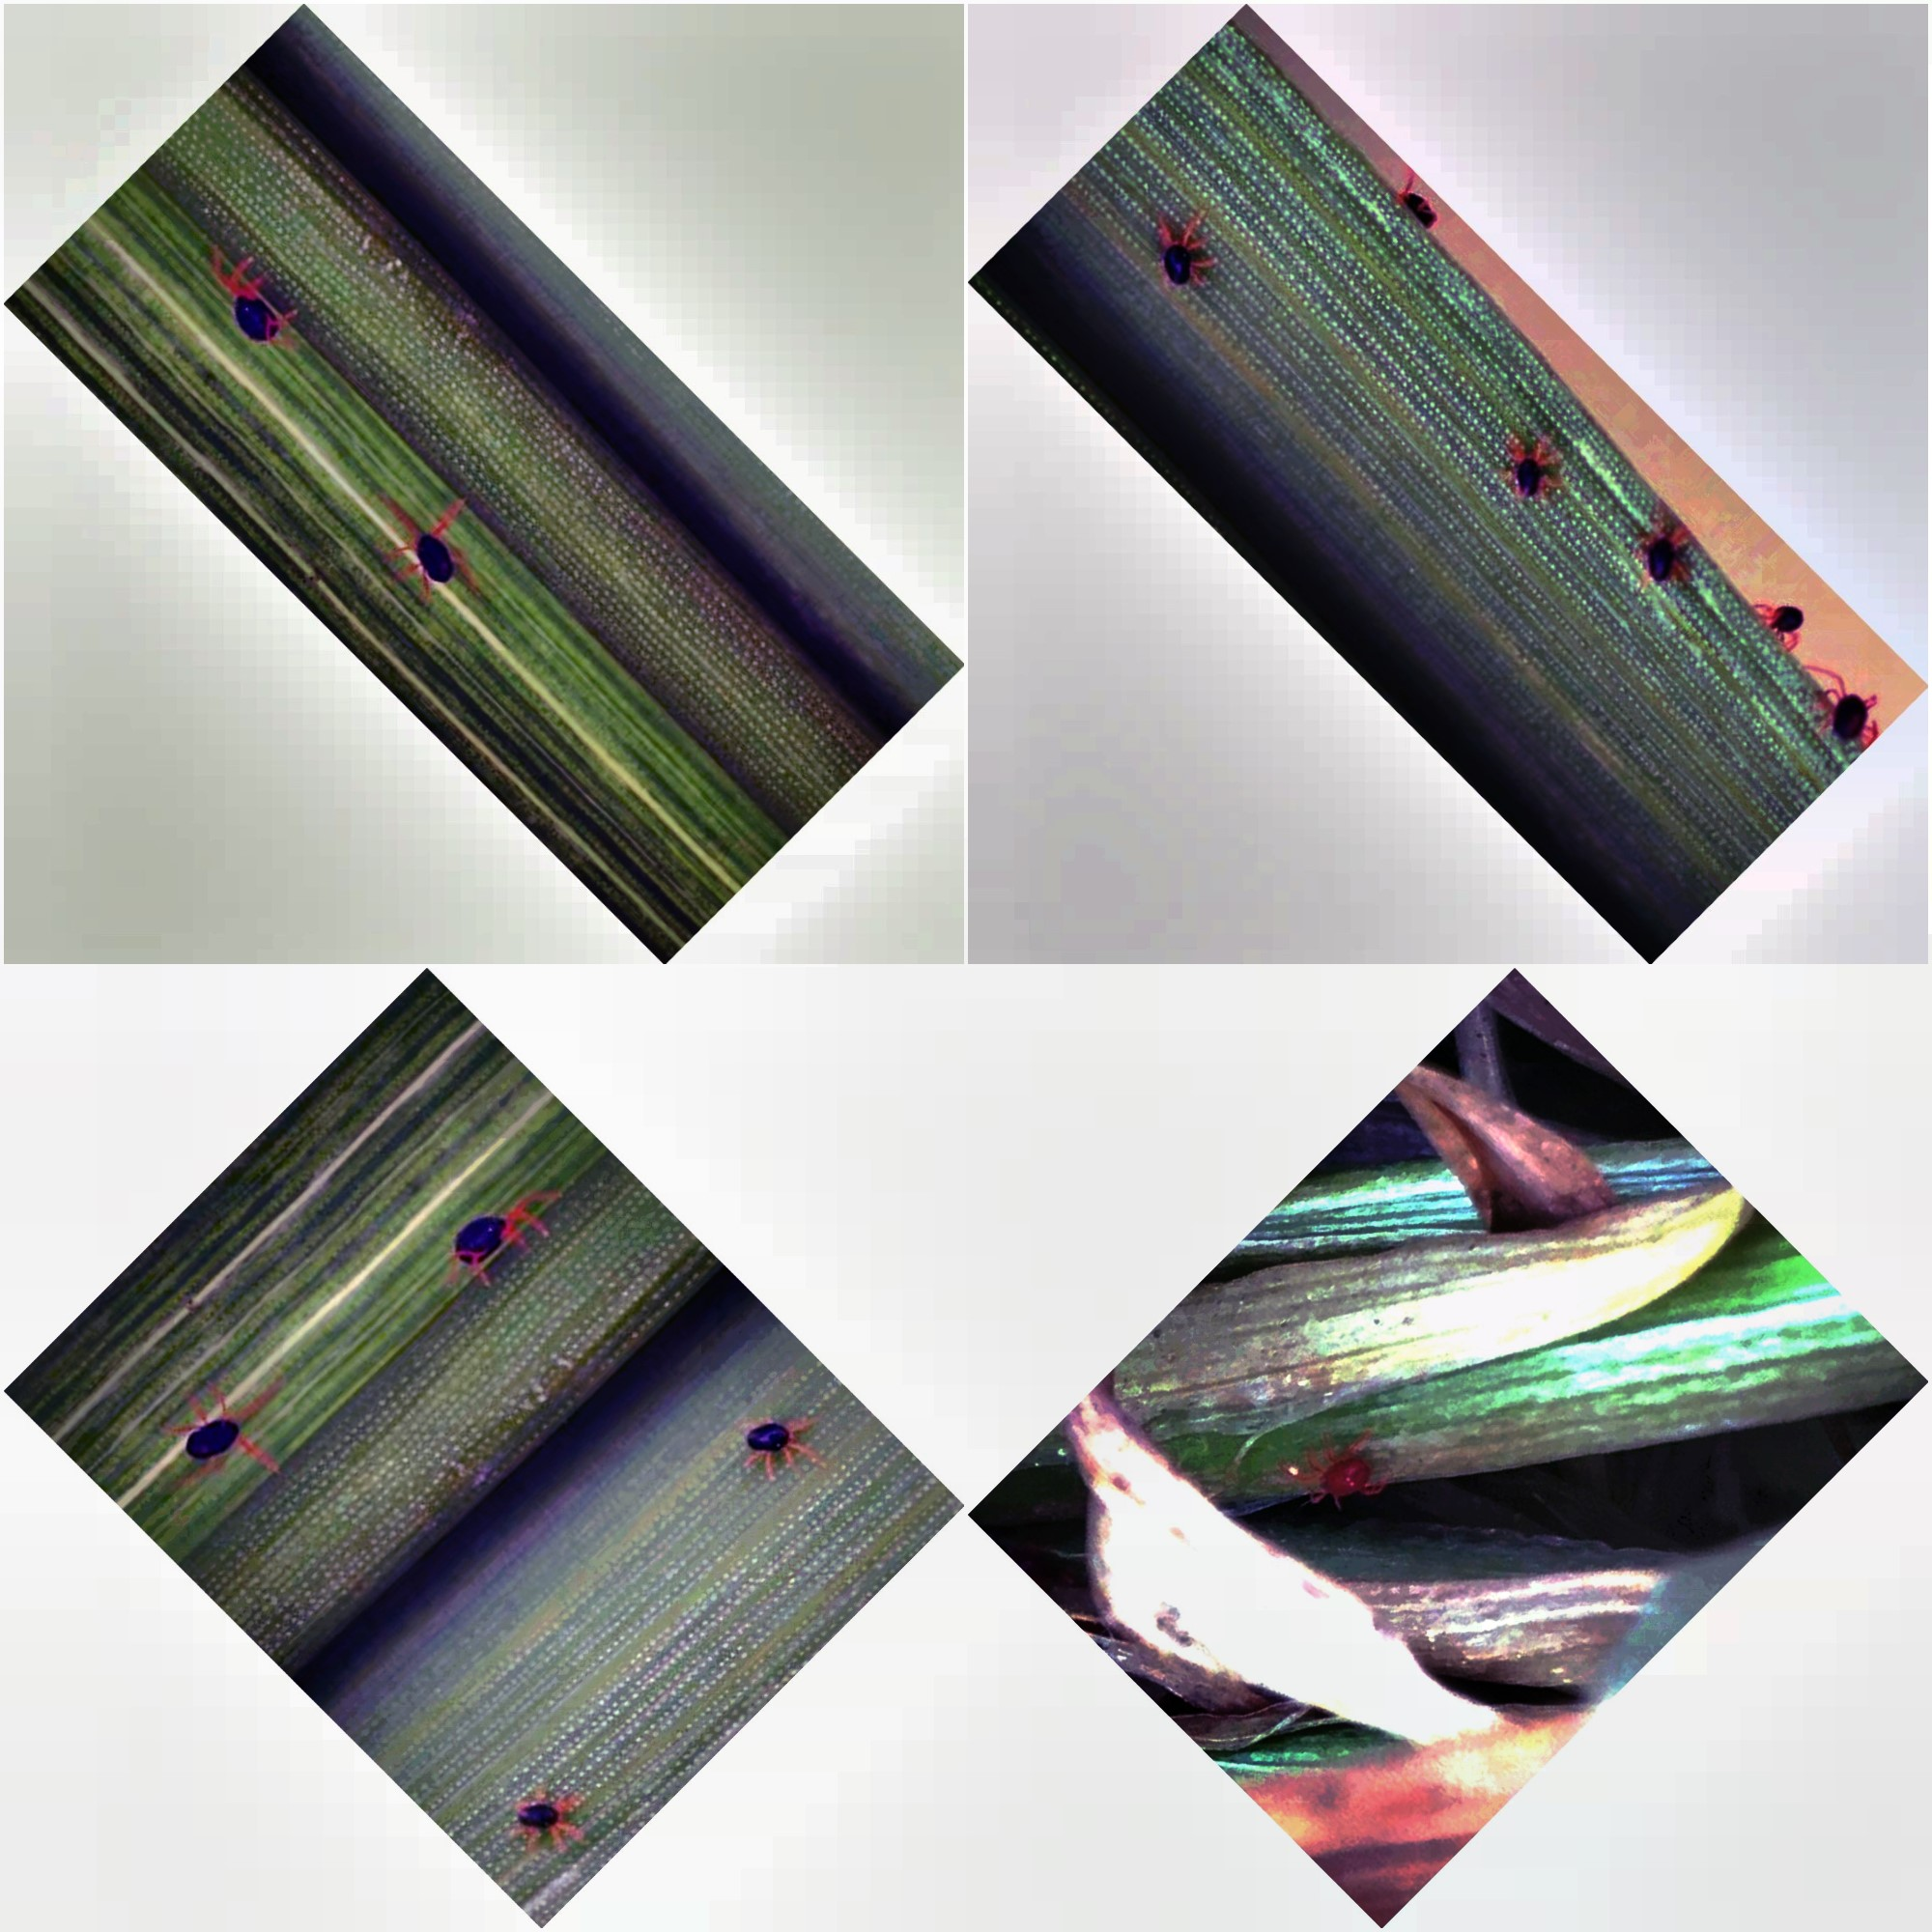Wheat Red Spider: (407, 1154, 840, 1520), (184, 241, 515, 628), (1458, 382, 1716, 616)
